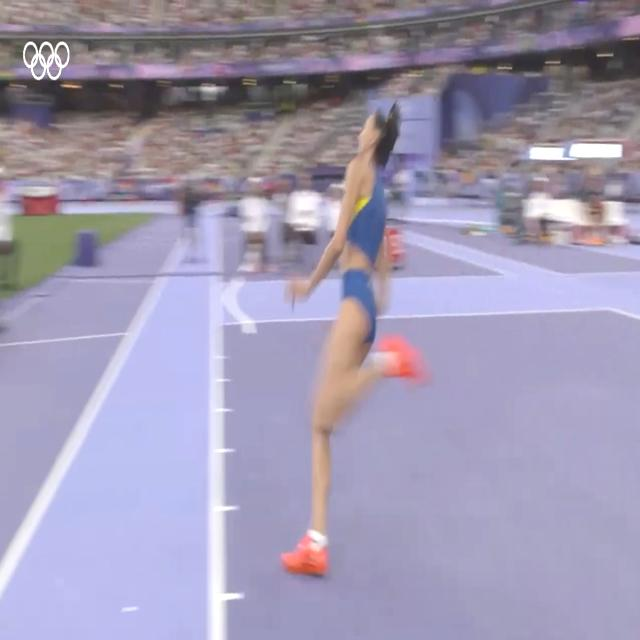run: (279, 103, 423, 581)
